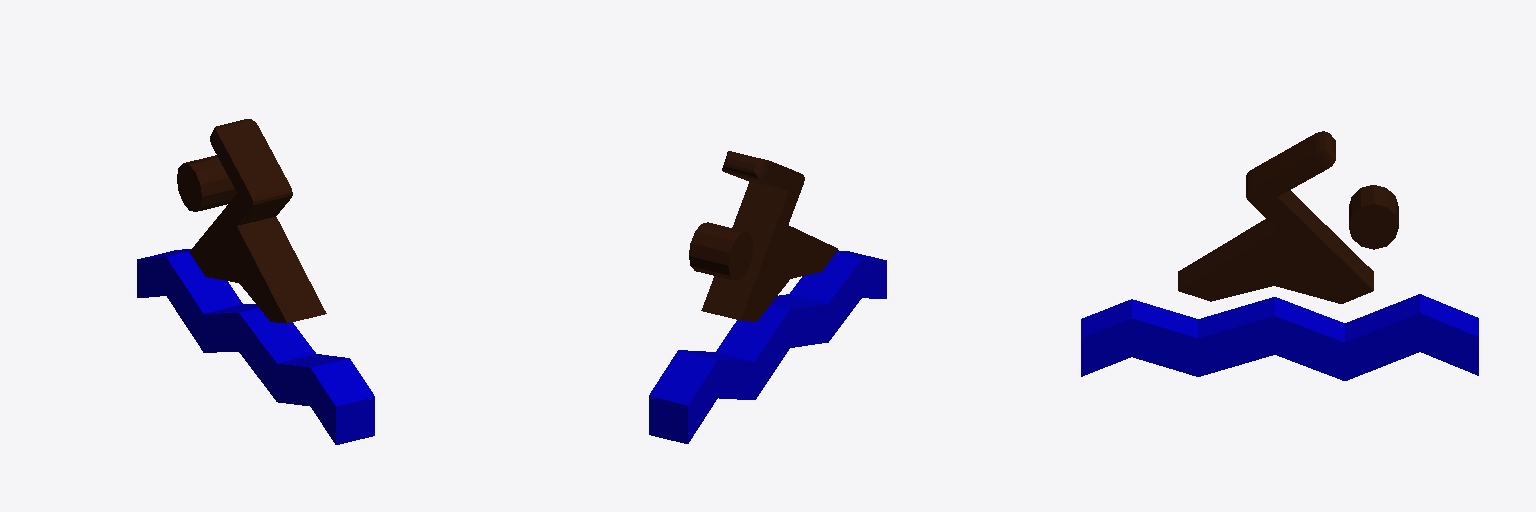
Rendered from icon_swimming.obj.
The picture shows the model from 3 angles: view 1: azimuth 30°, elevation 25°; view 2: azimuth 150°, elevation 25°; view 3: azimuth 270°, elevation 25°; orthographic projection.
Visible parts, largest first — view 1: Swimming_Cube.001; view 2: Swimming_Cube.001; view 3: Swimming_Cube.001.
Boxes of the visible parts, box(x1,y1,x2,y2) form: Swimming_Cube.001: box(137, 119, 374, 444); Swimming_Cube.001: box(649, 151, 886, 443); Swimming_Cube.001: box(1081, 131, 1478, 380).
Bounding box in the file's own units: 0.617 × 3.46 × 5.4.